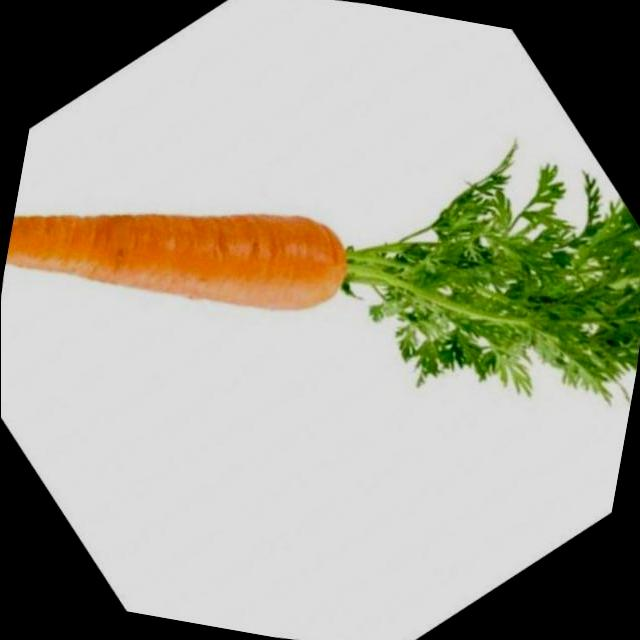carrot: (0, 0, 587, 635)
